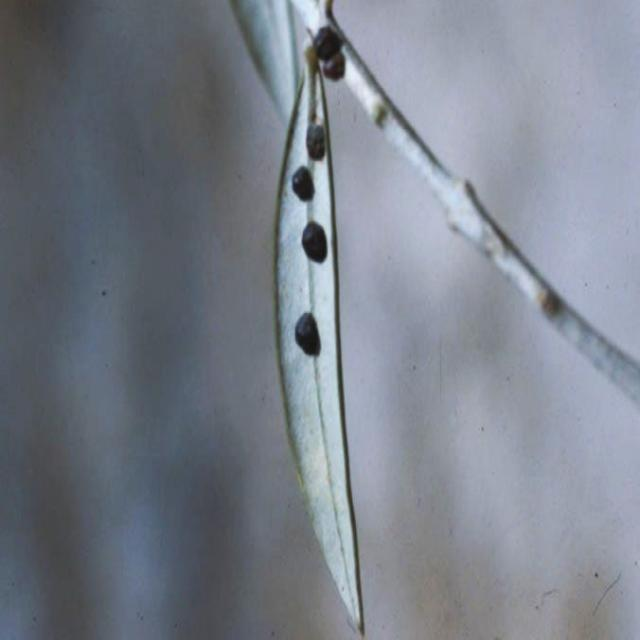Black Scale: (312, 26, 345, 80), (302, 220, 327, 263), (295, 312, 320, 355), (292, 166, 314, 201), (307, 123, 325, 160)
